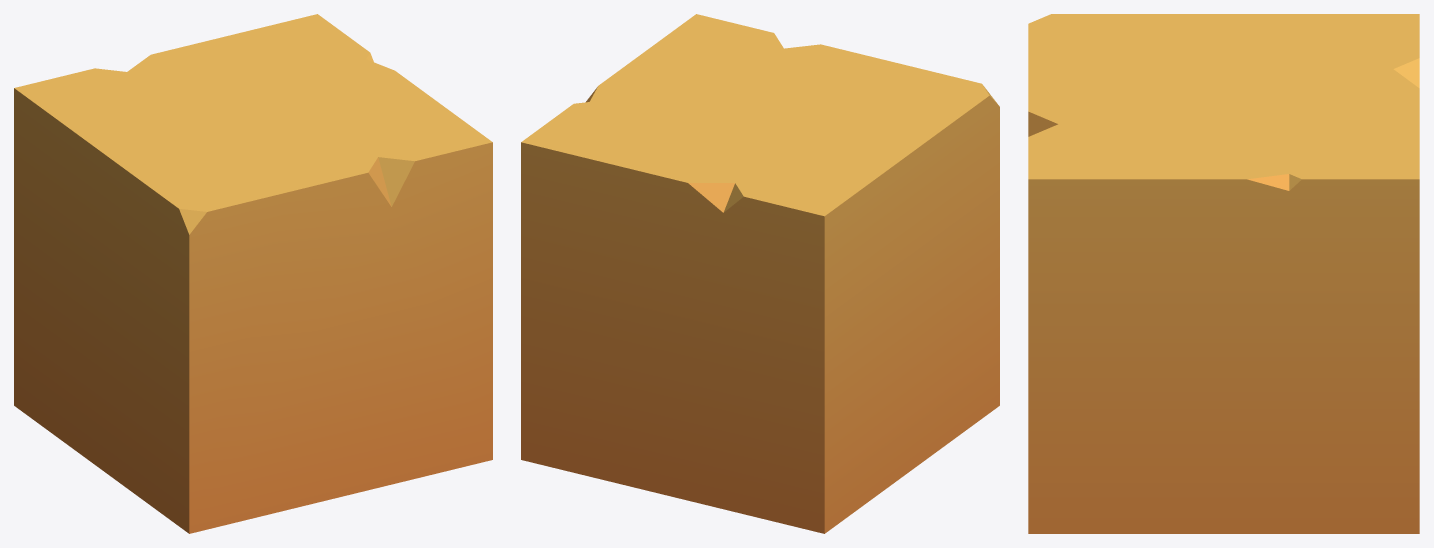
File: block_yellow.gltf.glb
The picture shows the model from 3 angles, left to right: view 1: azimuth 30°, elevation 25°; view 2: azimuth 150°, elevation 25°; view 3: azimuth 270°, elevation 25°; orthographic projection. The views are drawn at different scales.
Visible parts, largest first — view 1: block_yellow; view 2: block_yellow; view 3: block_yellow.
Part boxes in pixels (left/top/right/bottom): block_yellow: left=14, top=14, right=492, bottom=533; block_yellow: left=521, top=14, right=999, bottom=533; block_yellow: left=1028, top=14, right=1419, bottom=533.
Size of the model in its own units: 2 by 2 by 2.
1 material, 1 textured.
